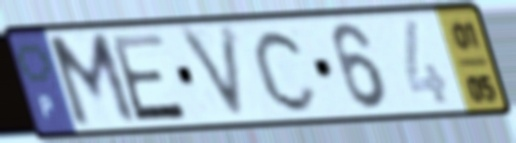4: (401, 16, 451, 109)
6: (329, 20, 391, 113)
C: (251, 26, 322, 115)
E: (106, 30, 191, 125)
M: (43, 29, 142, 132)
V: (173, 21, 251, 126)
